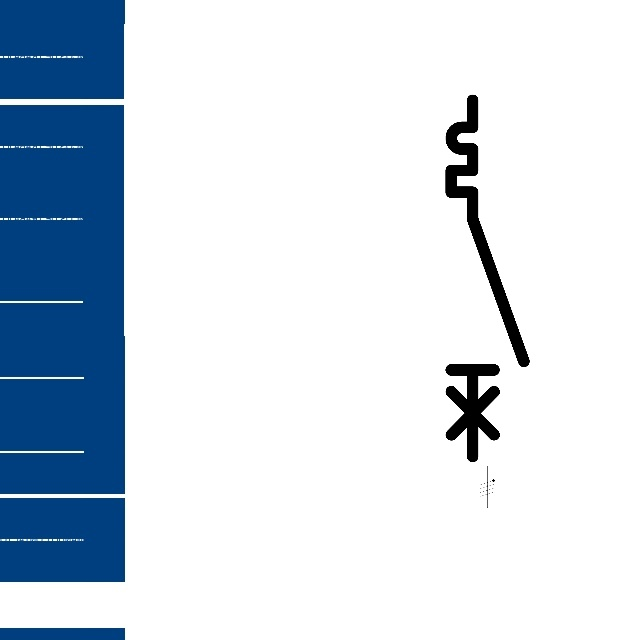interruptor_termomagnetico: (442, 91, 533, 465)
